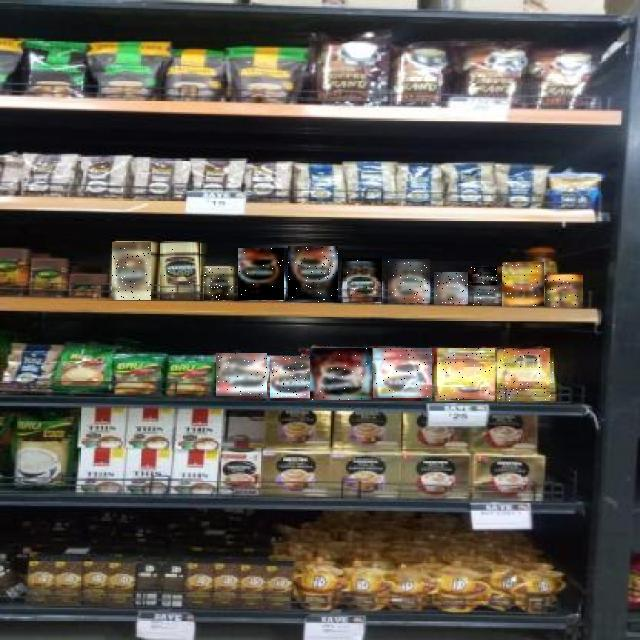Coffee: (310, 348, 372, 400), (437, 348, 495, 400), (498, 348, 554, 401), (373, 348, 432, 398), (288, 247, 338, 303), (239, 248, 285, 300), (160, 242, 200, 300), (112, 242, 151, 300), (216, 354, 267, 398), (388, 259, 430, 303), (502, 263, 544, 307), (343, 258, 383, 302), (270, 356, 310, 398), (545, 275, 583, 307), (434, 273, 468, 305), (204, 268, 233, 300), (470, 286, 499, 305), (468, 267, 497, 285)
